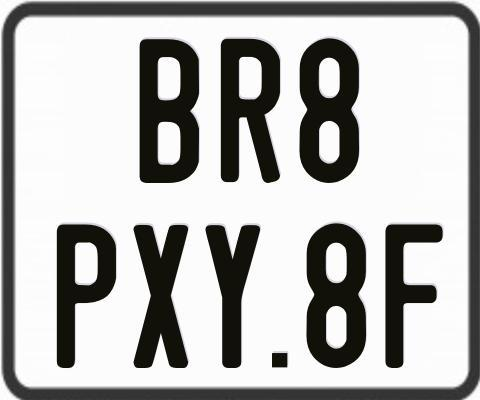8: (299, 35, 363, 185), (305, 220, 365, 365)
B: (140, 37, 199, 184)
F: (383, 222, 442, 368)
P: (54, 221, 113, 366)
R: (220, 36, 283, 181)
X: (133, 225, 189, 368)
Y: (203, 222, 257, 371)
